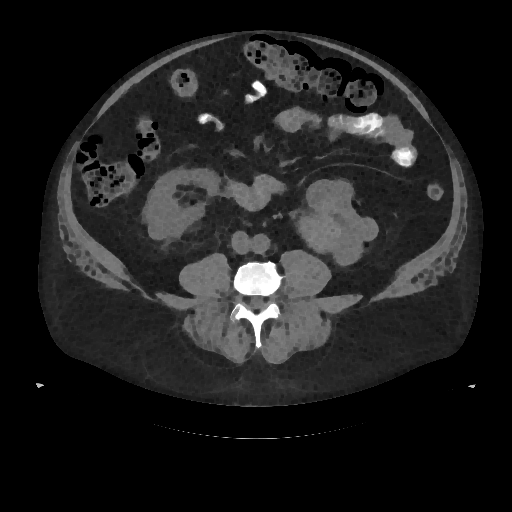Lesion: (294, 208, 344, 256)
